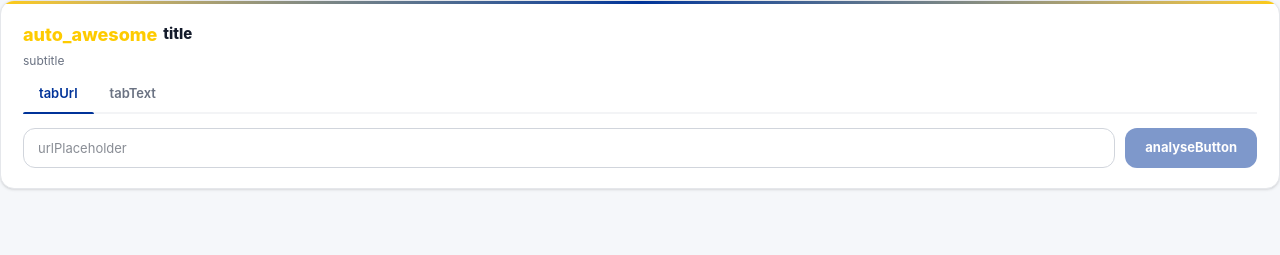
Test case: QuickTailorWidget › switches to text textarea when Paste Text tab is clicked
Click the button "tabText" at x=133, y=98, box [94, 84, 172, 112]
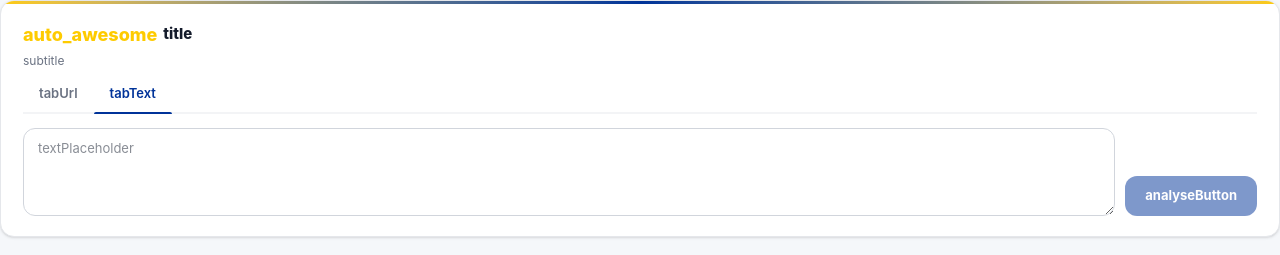
Expected: the text box with placeholder "textPlaceholder" is shown, [23, 128, 1115, 216]
